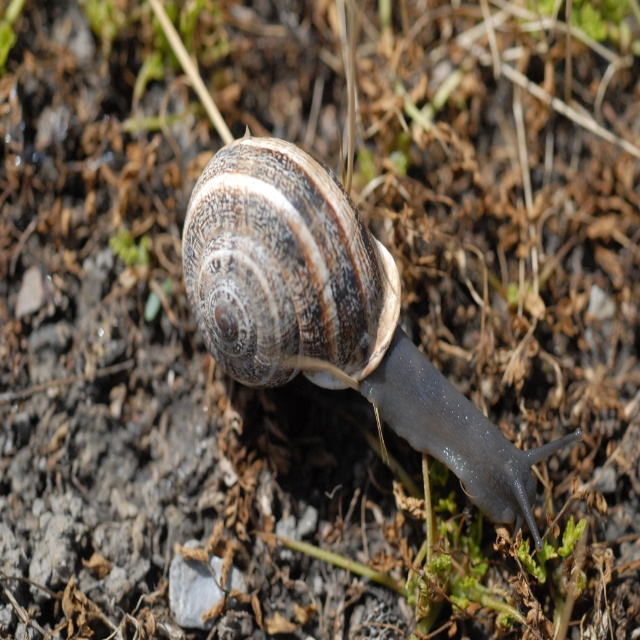Snail: (175, 121, 587, 556)
